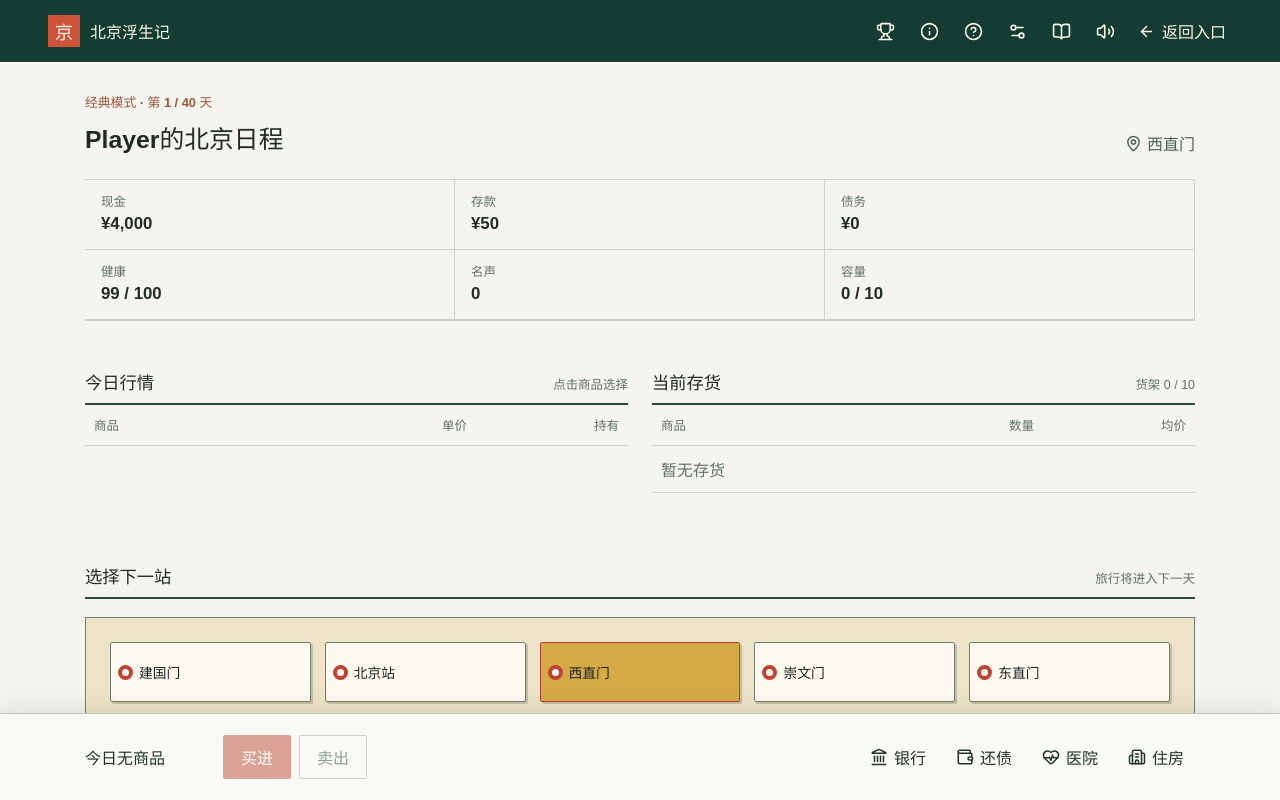
Test: ServiceDialog › offers classic treatment and housing but no borrow command
Click the button "医院".
click(1070, 757)  # box [1031,735,1109,779]
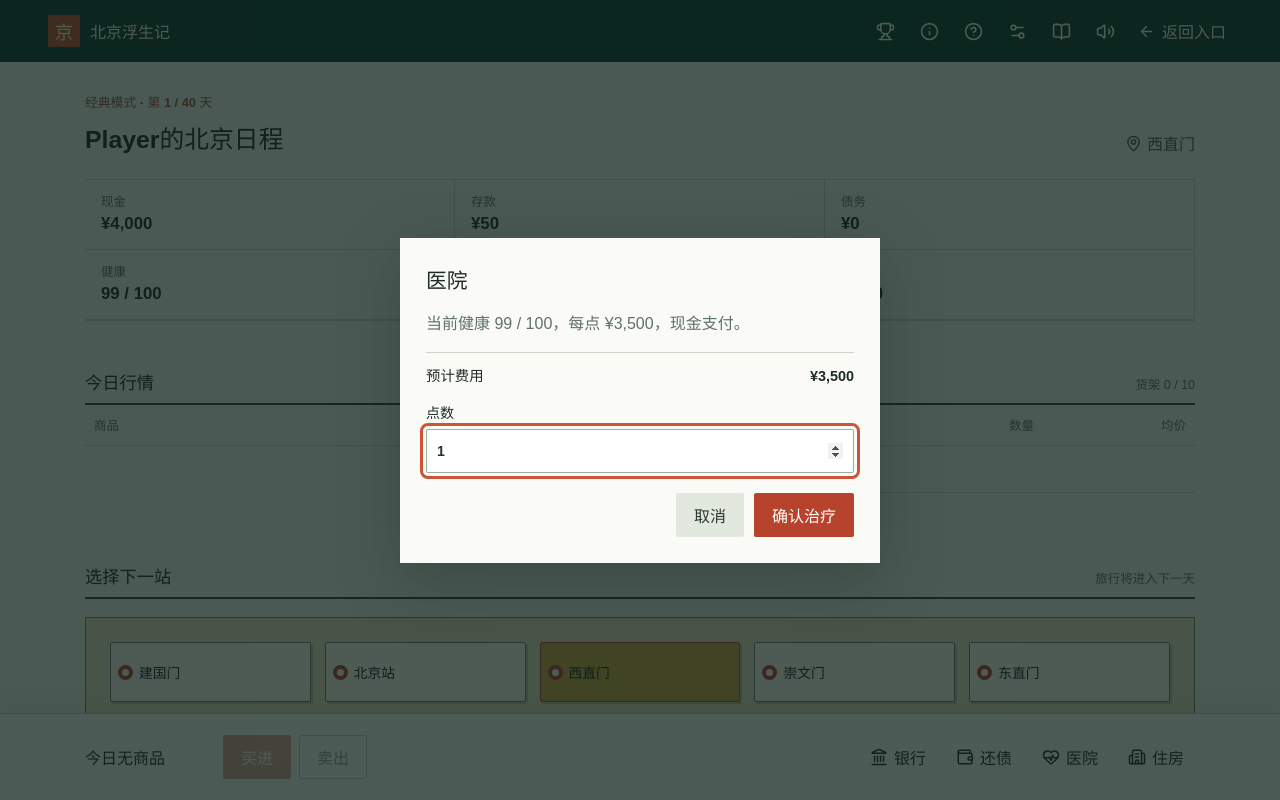
Check: the text "当前健康 99 / 100，每点 ¥3,500，现金支付。" is shown, box [426,314,750,332]
Click the button "取消".
click(710, 514)  # box [676,492,744,536]
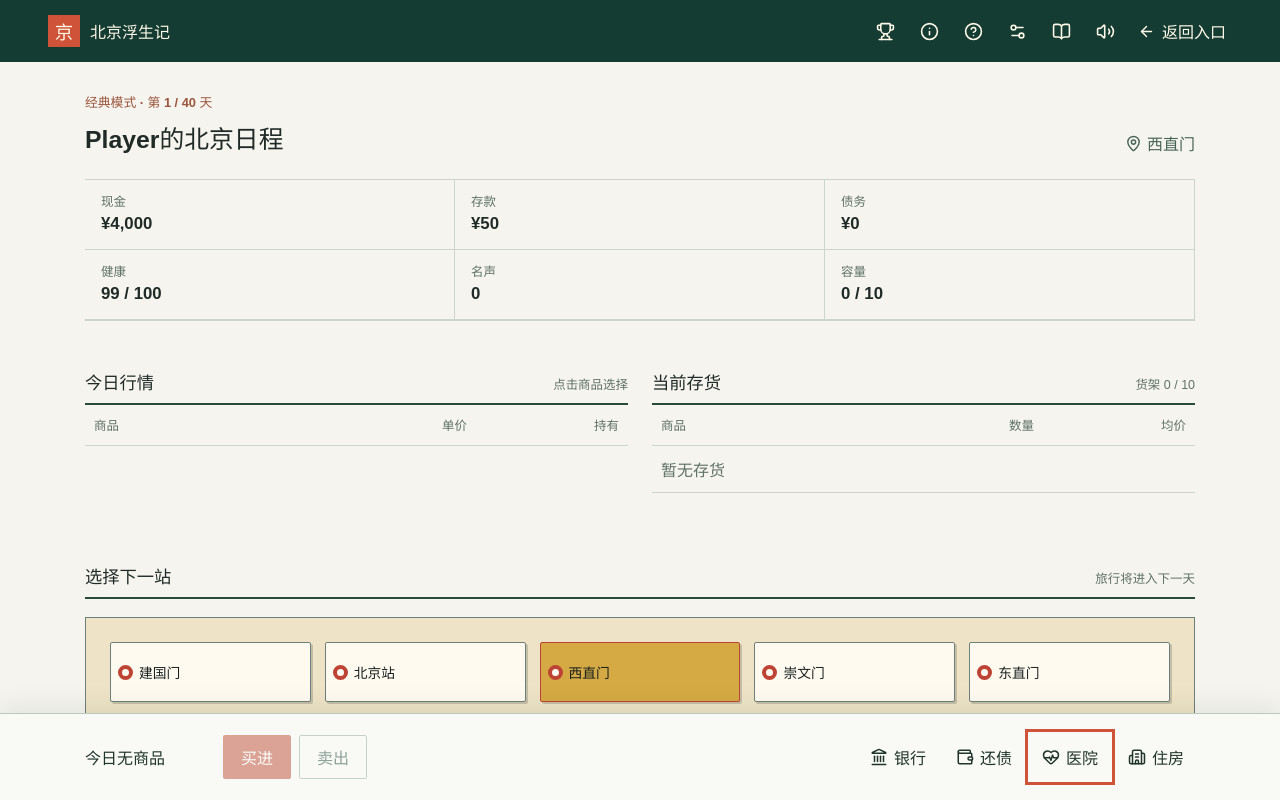
Click the button "住房".
click(1156, 757)  # box [1117,735,1195,779]
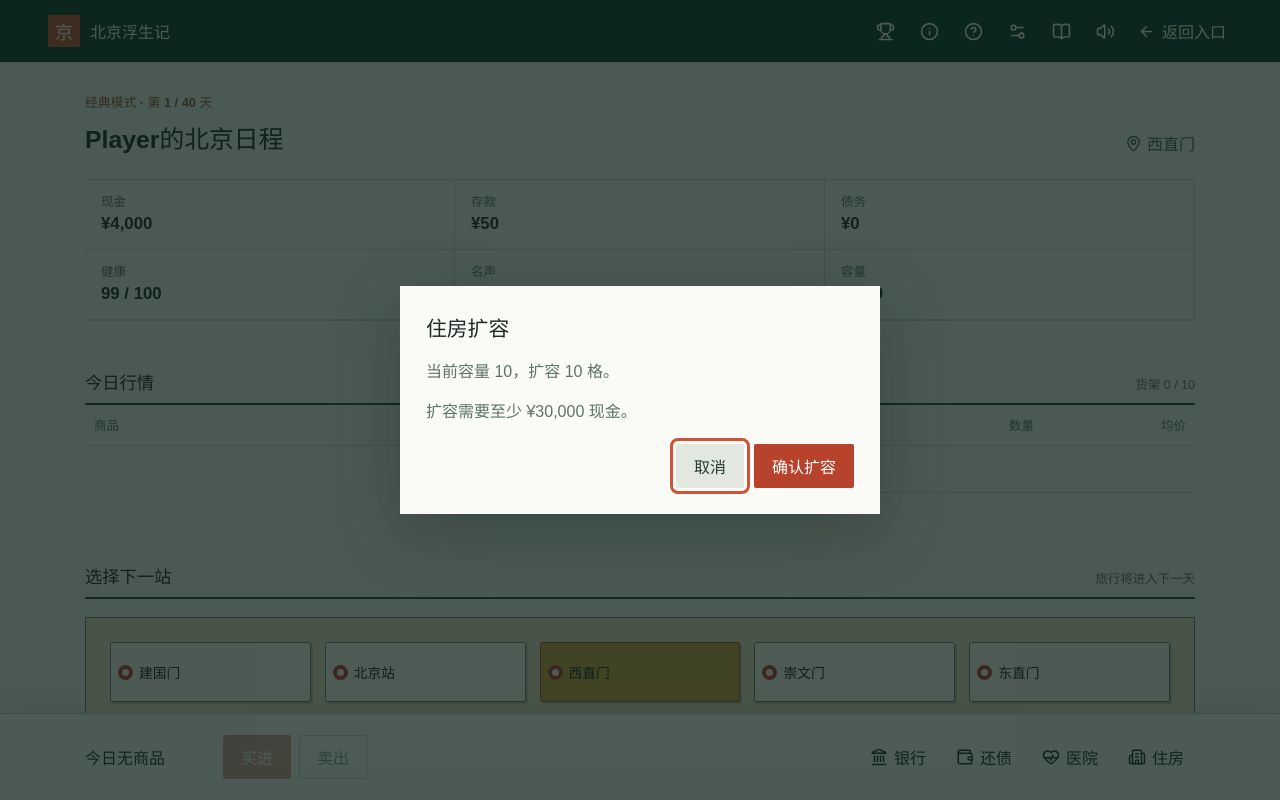
Check: the button "确认扩容" is shown, box [754,444,854,488]
